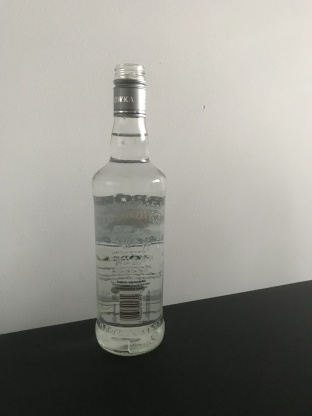nakretka: (111, 60, 148, 119)
